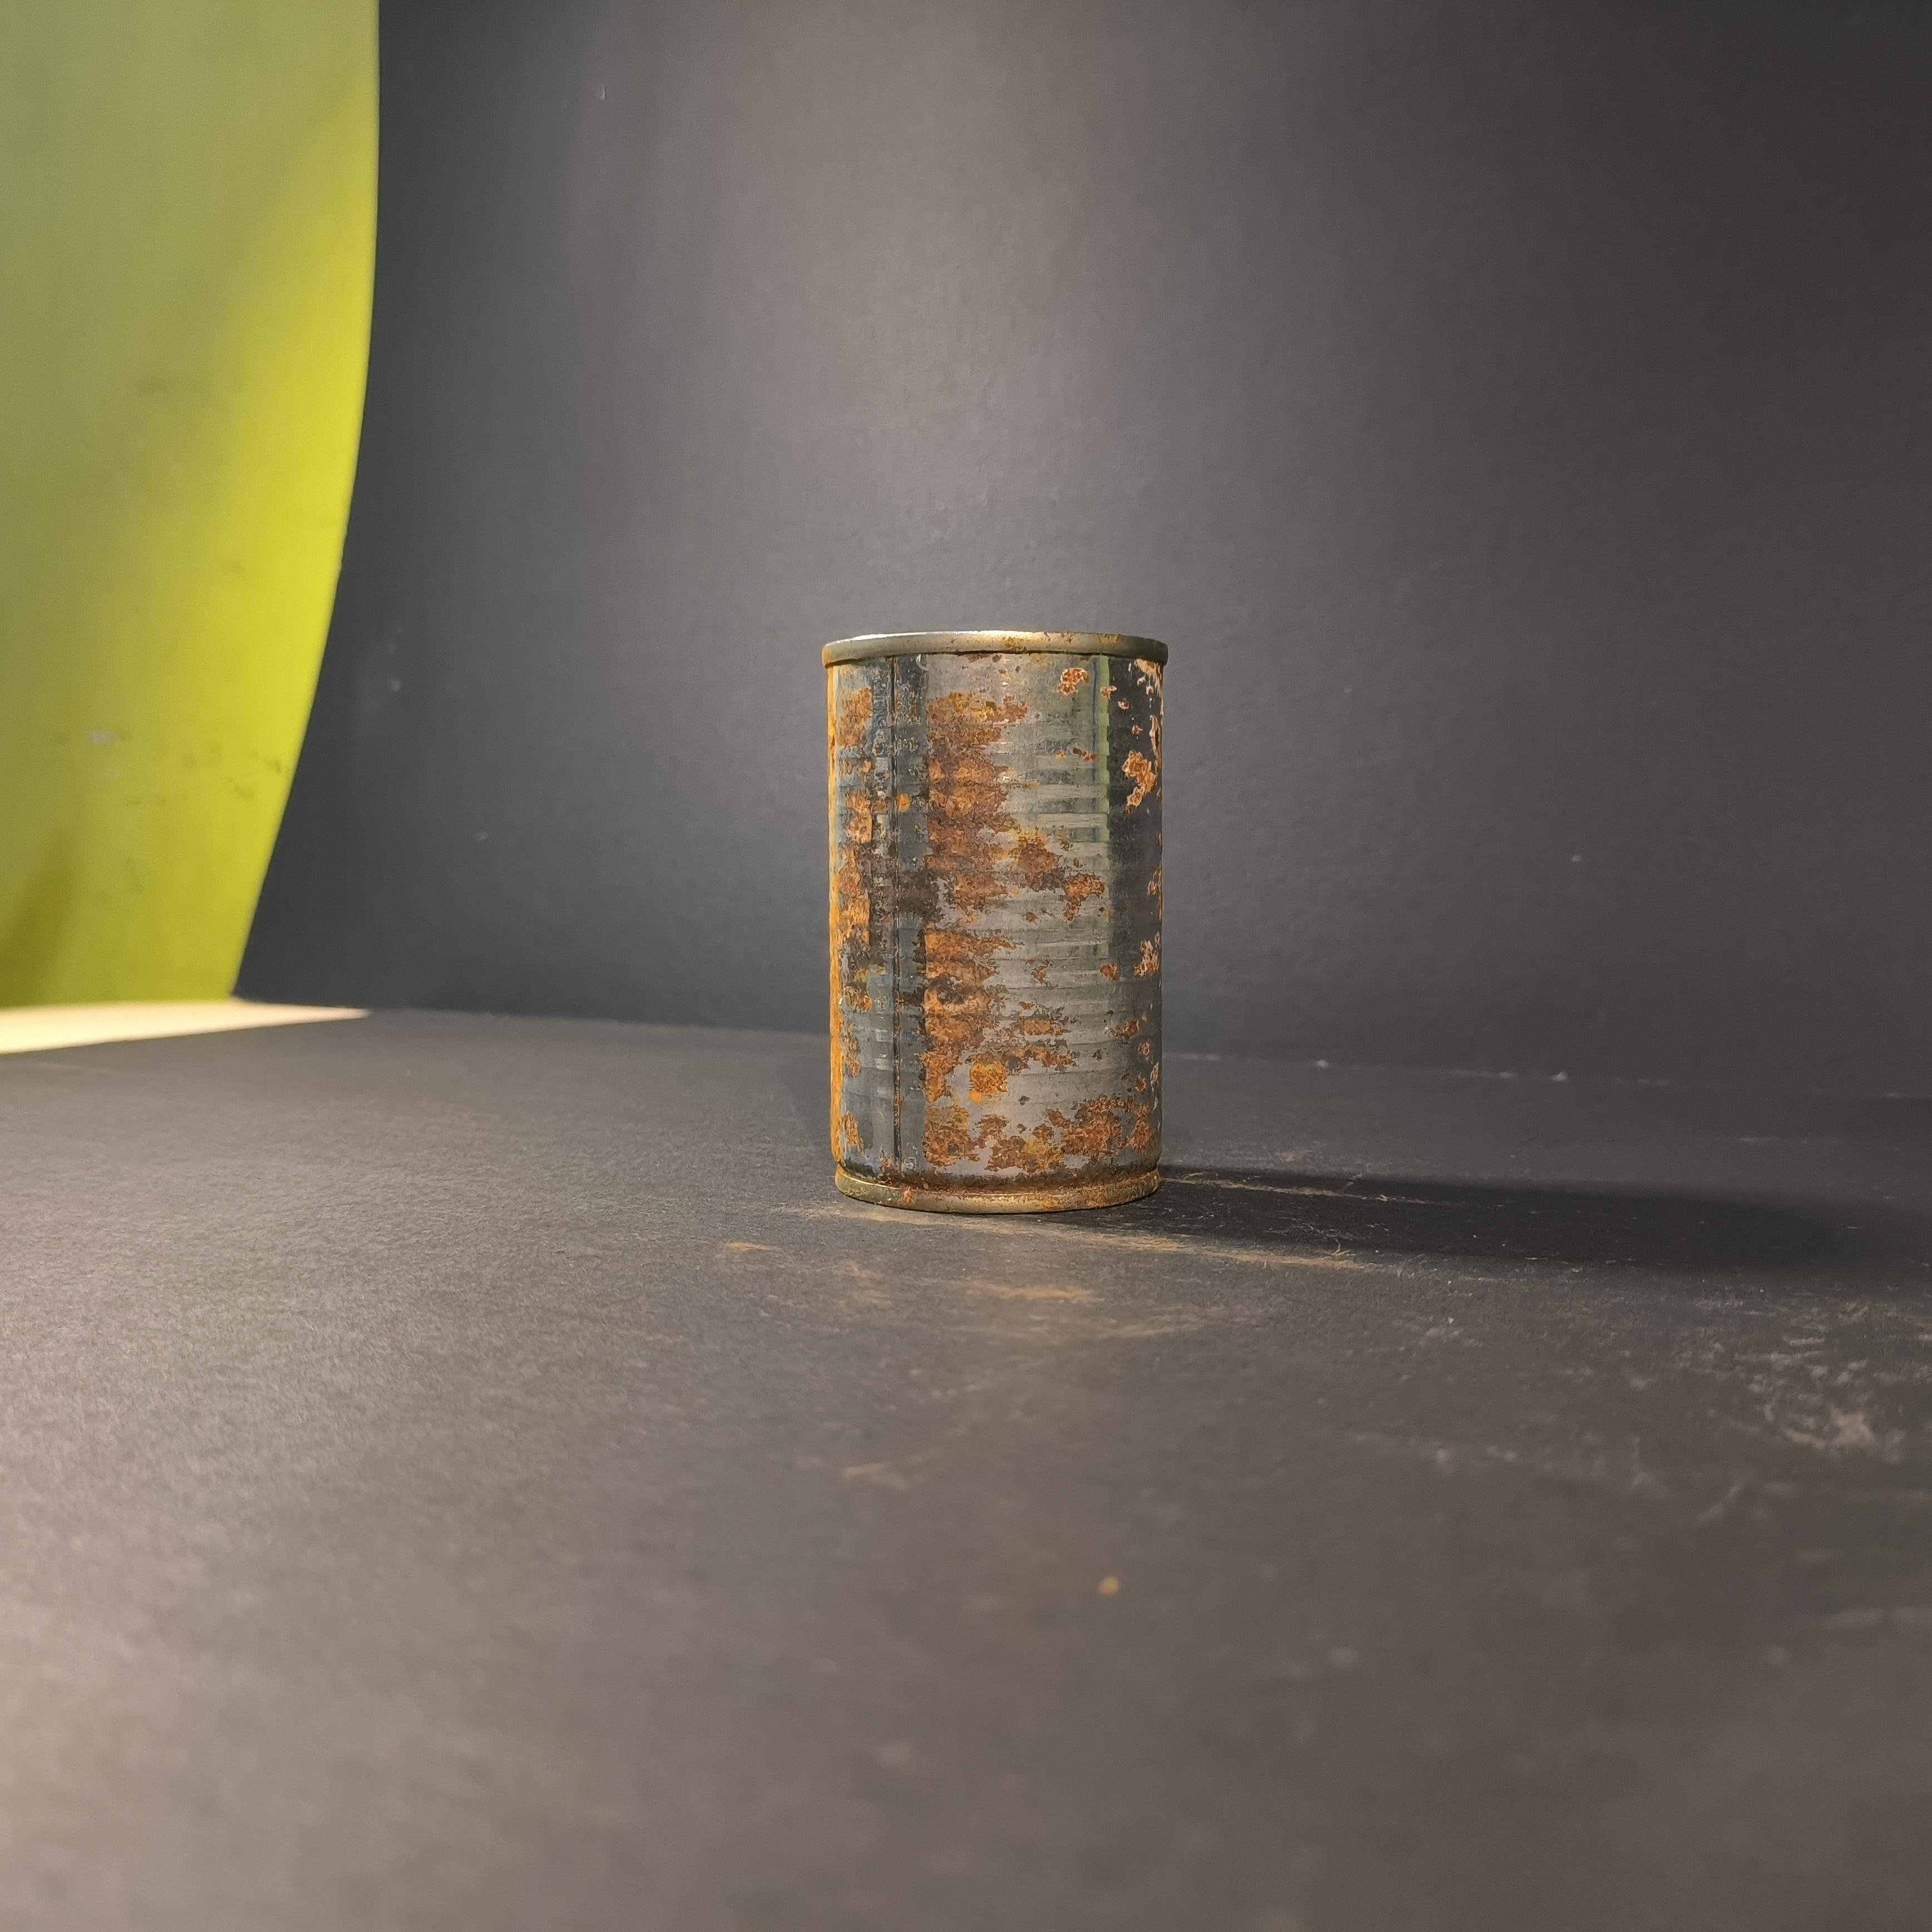Rusted: (790, 598, 1210, 1213)
